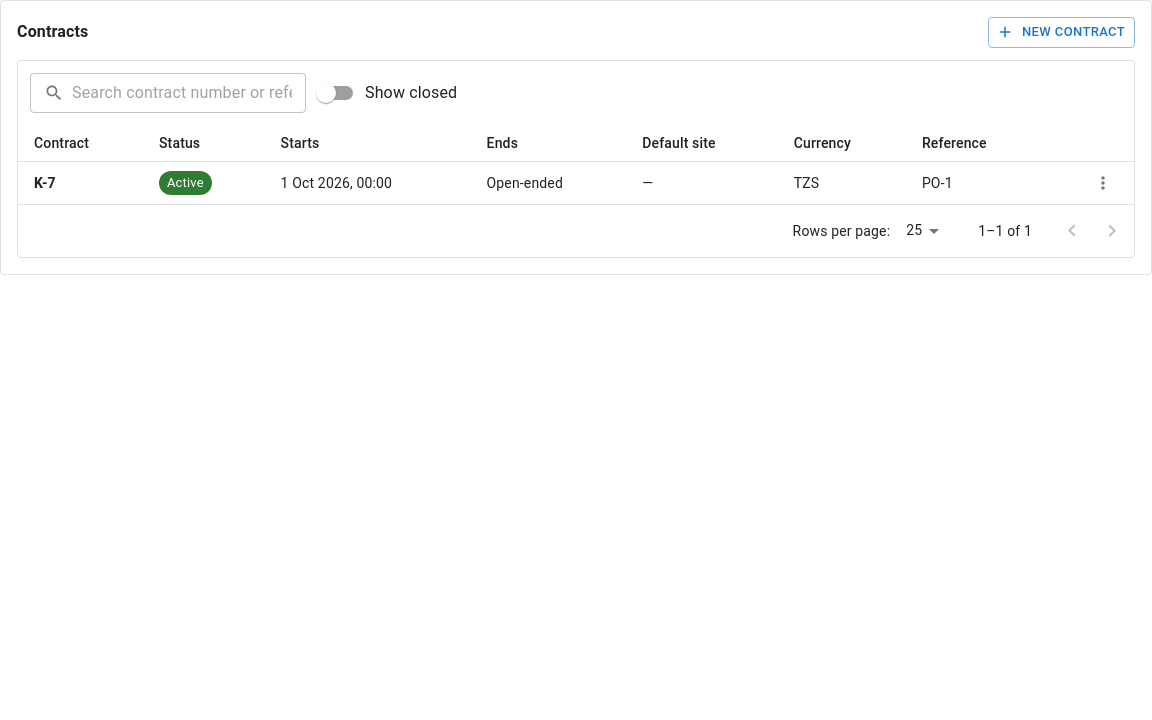
Test: contracts of a customer › shows CONTRACT_HAS_OPEN_JOBS in the close dialog
Click the button named "Actions for contract K-7": (1103, 183) x1=1088 y1=168 x2=1118 y2=198
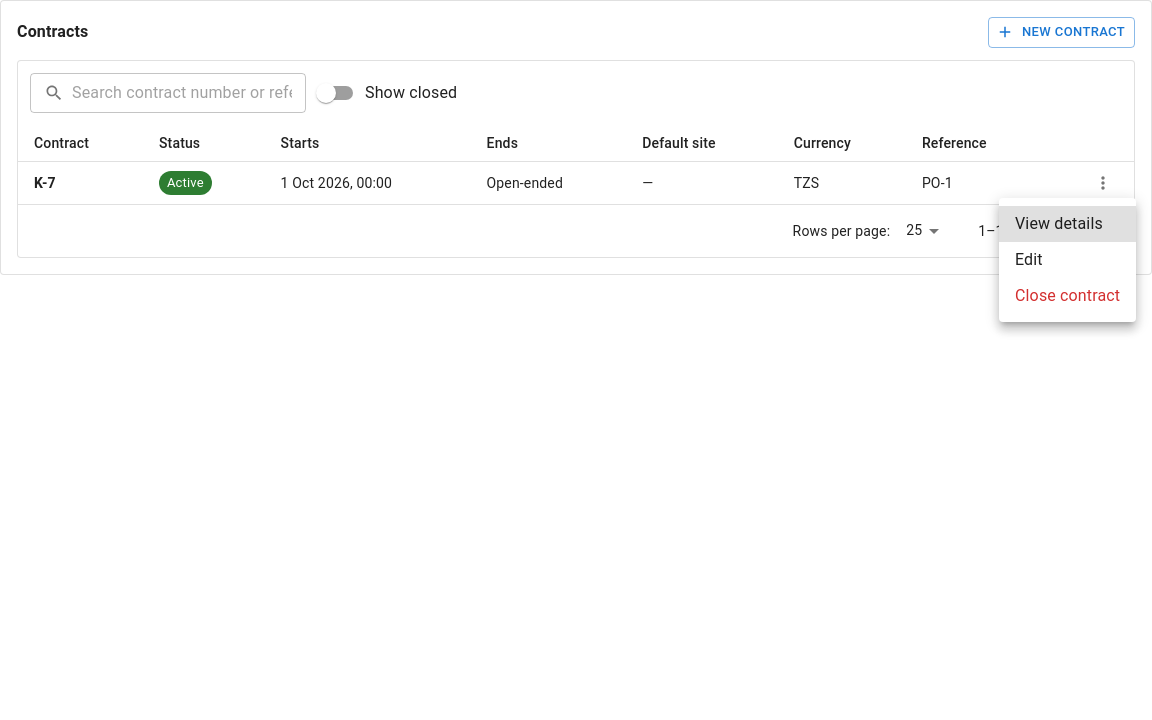
Click the menu item "Close contract": (1068, 296) x1=1015 y1=286 x2=1120 y2=305
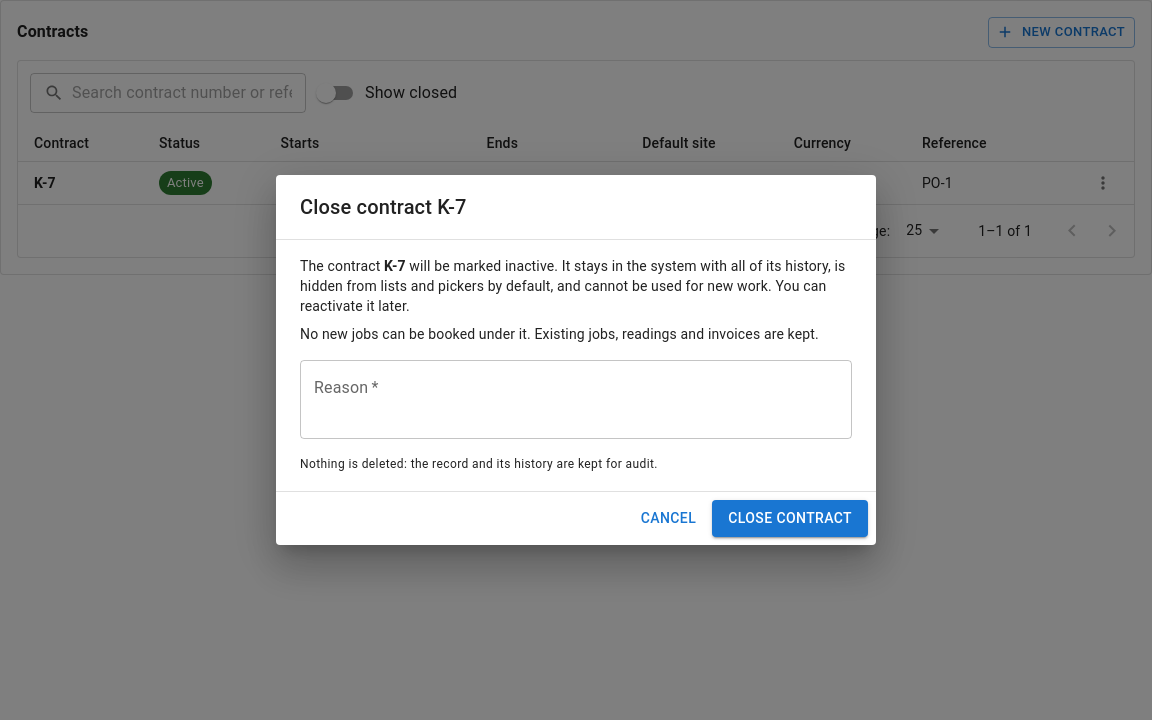
In the text box labelled "Reason *": (576, 400) x1=314 y1=377 x2=838 y2=423, type "Work finished"
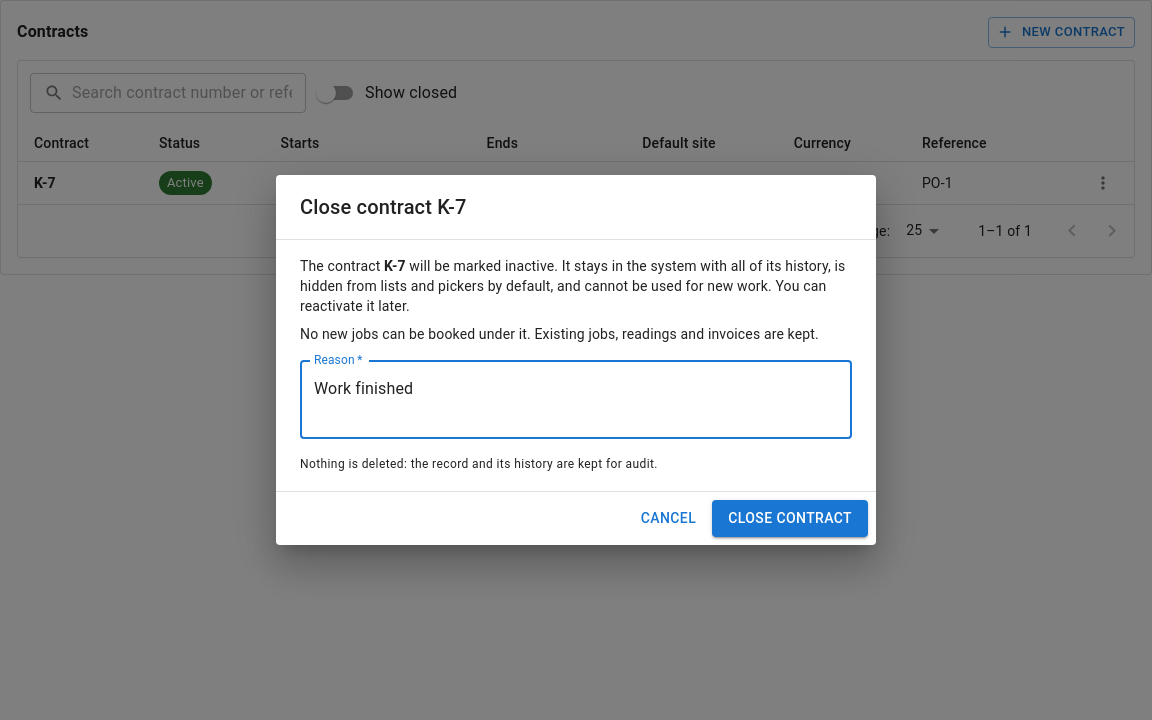
Click the button "Close contract": (790, 518) x1=712 y1=500 x2=868 y2=537
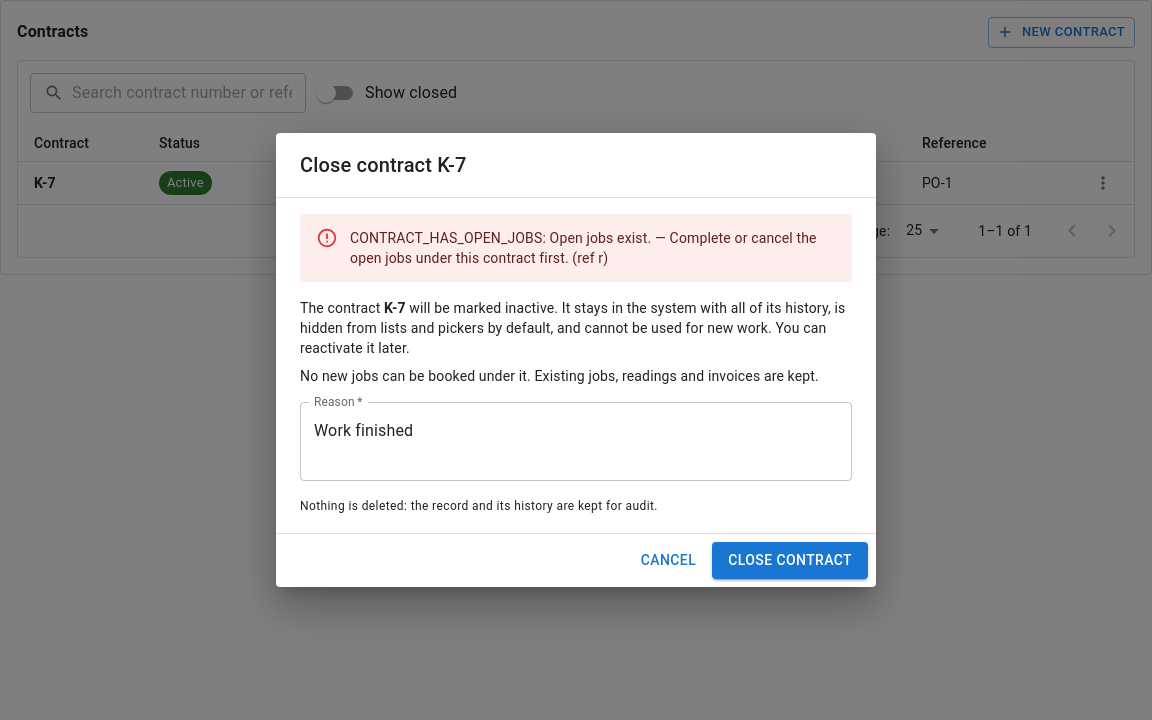
Expected: the text "CONTRACT_HAS_OPEN_JOBS: Open jobs exist." is shown, x1=350 y1=230 x2=817 y2=266
